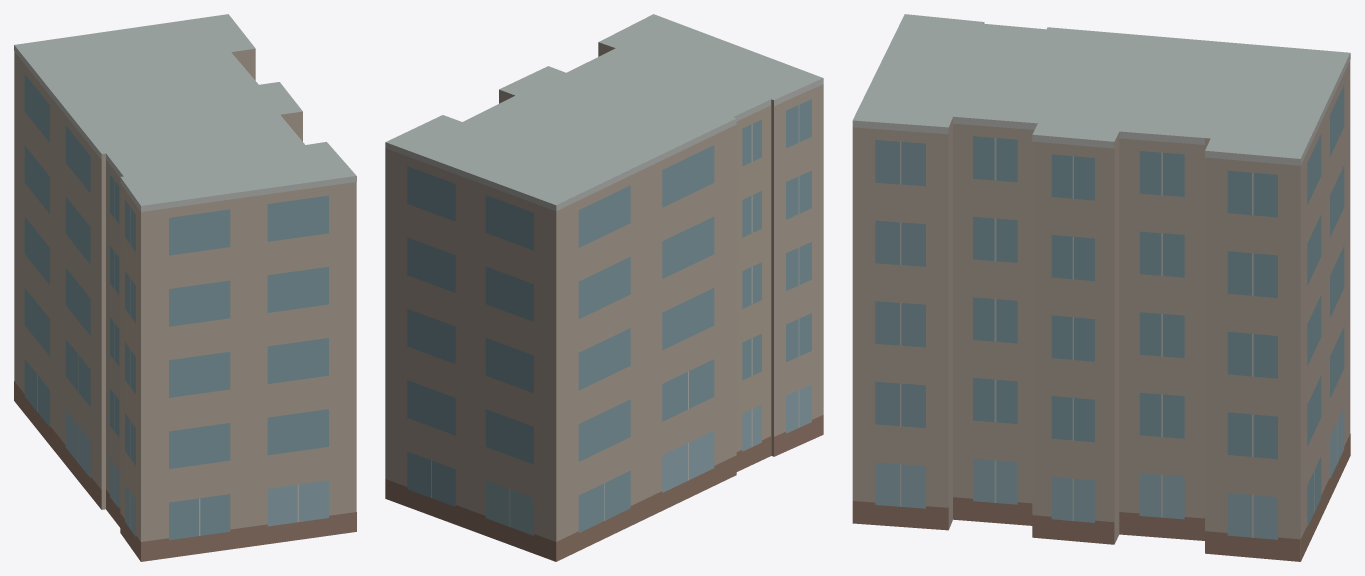
File: survey-upis-32885330.glb
3 views of the same model, side by side, from view 1: azimuth 30°, elevation 25°; view 2: azimuth 150°, elevation 25°; view 3: azimuth 270°, elevation 25° (orthographic). The views are drawn at different scales.
Visible parts, largest first — view 1: survey-upis-32885330.tmp; view 2: survey-upis-32885330.tmp; view 3: survey-upis-32885330.tmp.
Boxes of the visible parts, x1=… form: survey-upis-32885330.tmp: x1=14, y1=14, x2=356, y2=561; survey-upis-32885330.tmp: x1=385, y1=14, x2=823, y2=561; survey-upis-32885330.tmp: x1=852, y1=14, x2=1350, y2=561.
Bounding box in the file's own units: 11.12 × 14.4 × 16.14.
